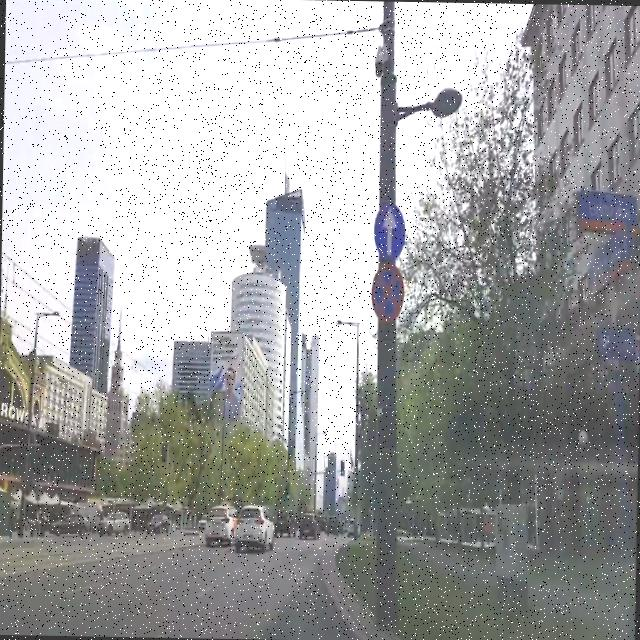Zakaz zatrzymywania sie: (371, 262, 406, 322)
